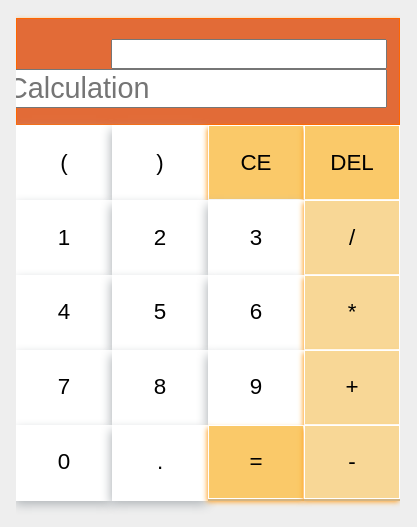
Test: Calculator Tests › Test that when you click a button / and there is nothing in the input except 0 it will be added › (button)/ after 0 in beginning
This screenshot has width=417, height=527.
Step 1. Click the button "0" → (64, 462), box 16,425 -> 112,499
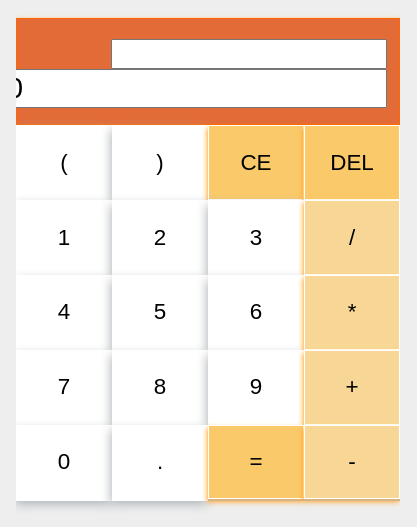
Step 2. Click the button "/" → (352, 238), box 304,200 -> 400,275
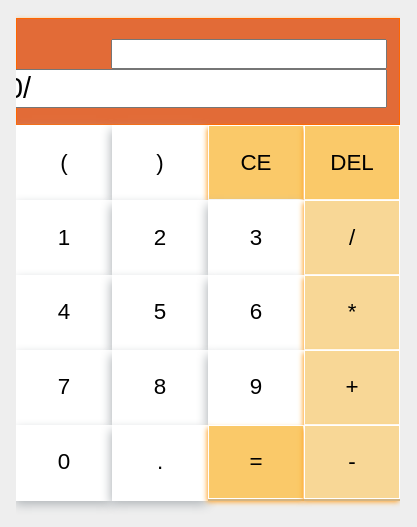
Expected: the 2nd field holds "0/", 16,69 -> 387,108
